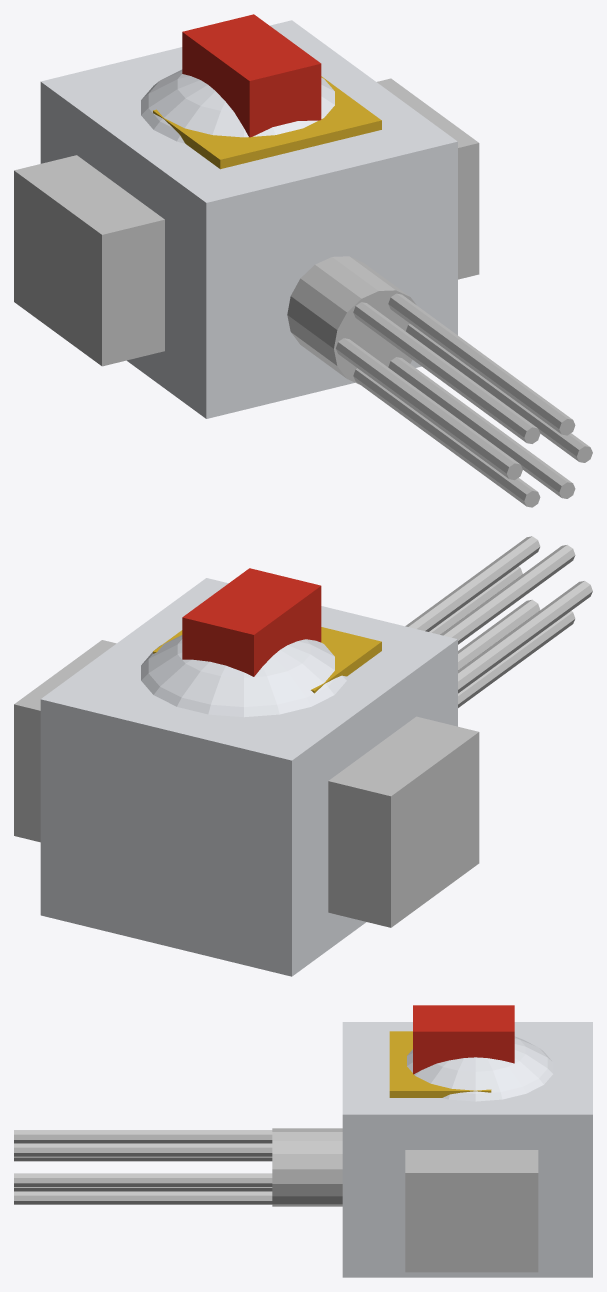
Rendered from ciws_turret_component.obj.
3 renders of one model, top to bottom at view 1: azimuth 30°, elevation 25°; view 2: azimuth 150°, elevation 25°; view 3: azimuth 270°, elevation 25°, orthographic. The views are drawn at different scales.
Visible parts, largest first — view 1: ciws_turret_component; view 2: ciws_turret_component; view 3: ciws_turret_component.
Part boxes in pixels (left/top/right/bottom): ciws_turret_component: left=14, top=14, right=592, bottom=507; ciws_turret_component: left=14, top=536, right=592, bottom=976; ciws_turret_component: left=14, top=1005, right=592, bottom=1277.
Bounding box in the file's own units: 0.84 × 0.66 × 1.48.
